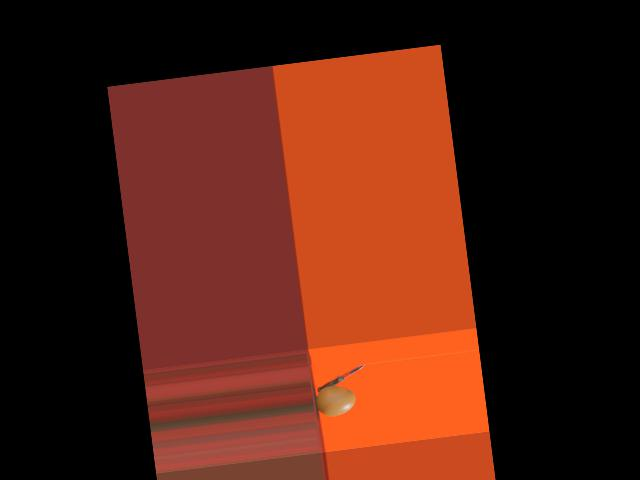egg: (314, 383, 356, 417)
